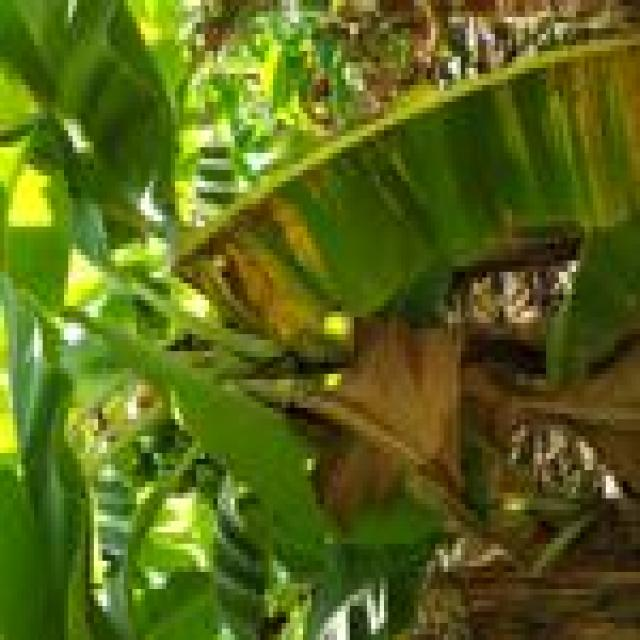Early_rust: (152, 46, 632, 630)
